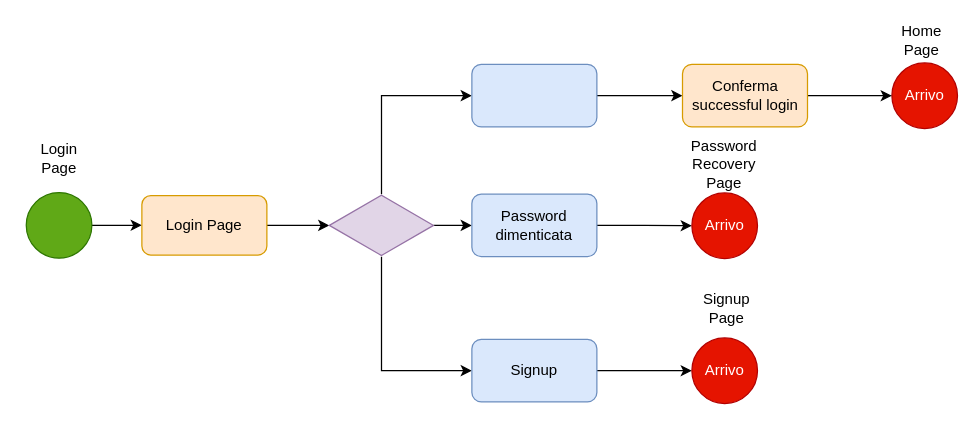
This 980x425 diagram has some shape labels left out. The shapes that lost their labels are listed below. From the top down, each one's centre as x and y in pixels, then its label:
At point (534, 95): "Fill del form e Accedi".
At point (58, 224): "Inizio".
At point (381, 225): "Scelta".
